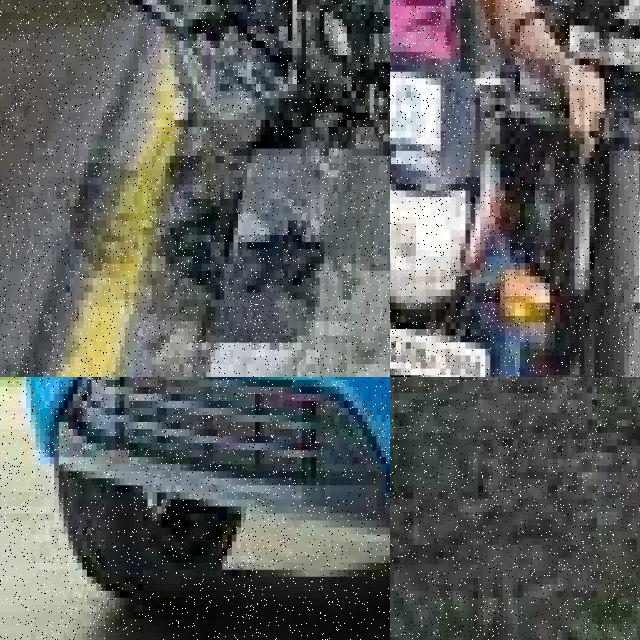bike: (106, 0, 390, 377), (390, 6, 579, 377), (535, 0, 640, 377)
car: (0, 377, 390, 640)
